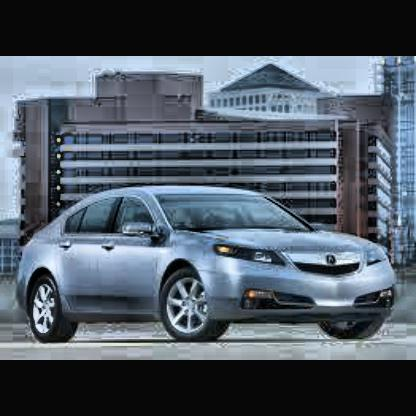Acura TL Sedan 2012: (13, 183, 397, 348)
